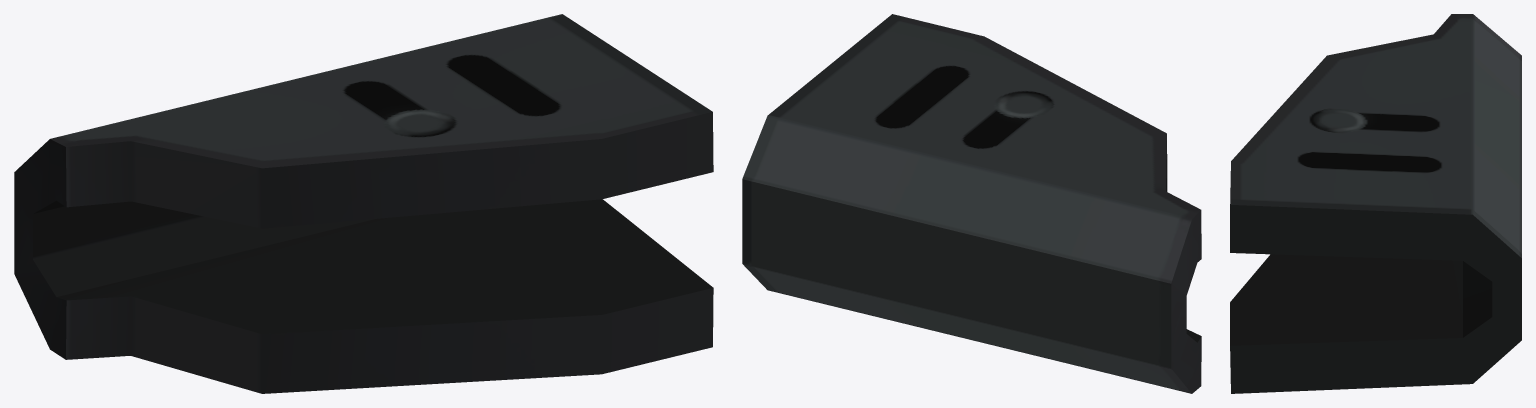
File: Legend_LightweightStocks_Base_4_Mod.FBX
3 renders of one model, left to right at view 1: azimuth 30°, elevation 25°; view 2: azimuth 150°, elevation 25°; view 3: azimuth 270°, elevation 25°, orthographic. The views are drawn at different scales.
Parts seen in each view (by area): view 1: Legend_LightweightStocks_Base_4_Mod; view 2: Legend_LightweightStocks_Base_4_Mod; view 3: Legend_LightweightStocks_Base_4_Mod.
Boxes of the visible parts, x1,y1,x2,y2 form: Legend_LightweightStocks_Base_4_Mod: [14, 14, 713, 393]; Legend_LightweightStocks_Base_4_Mod: [742, 14, 1201, 393]; Legend_LightweightStocks_Base_4_Mod: [1230, 14, 1521, 393].
Bounding box in the file's own units: 20.05 × 8.72 × 12.19.
